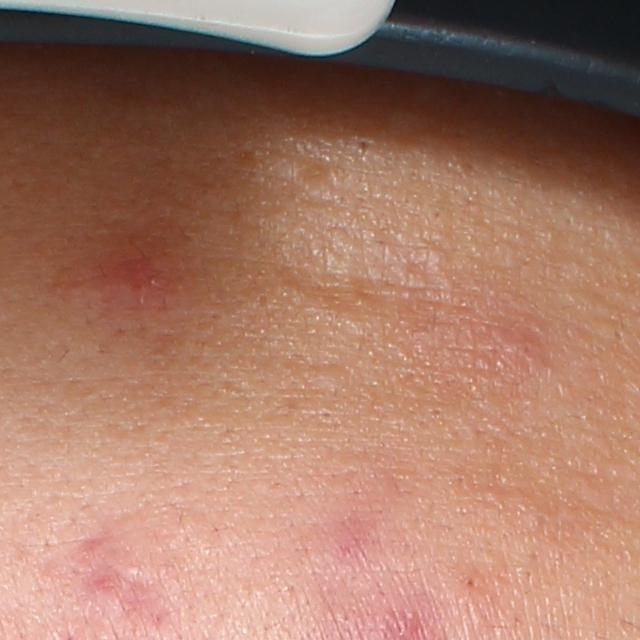comedo: (463, 575, 478, 590)
papule: (107, 253, 160, 305), (490, 330, 541, 375)
